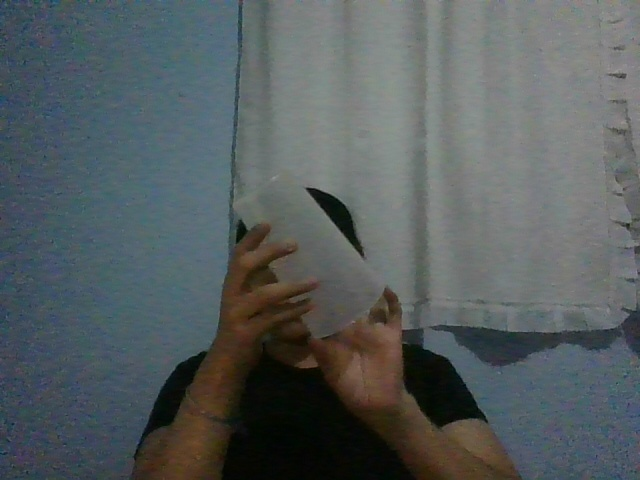vaso: (231, 171, 385, 339)
